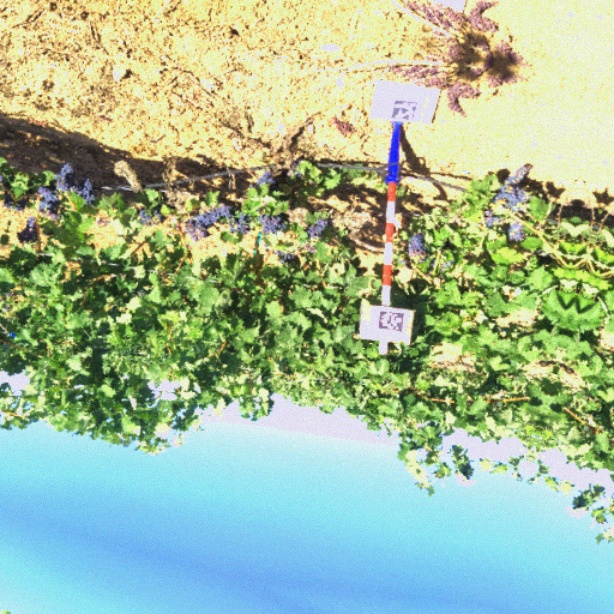QR: (372, 304, 411, 338), (387, 95, 422, 126)
